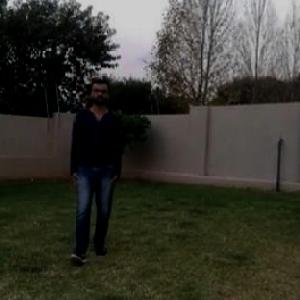follow: (69, 71, 117, 262)
